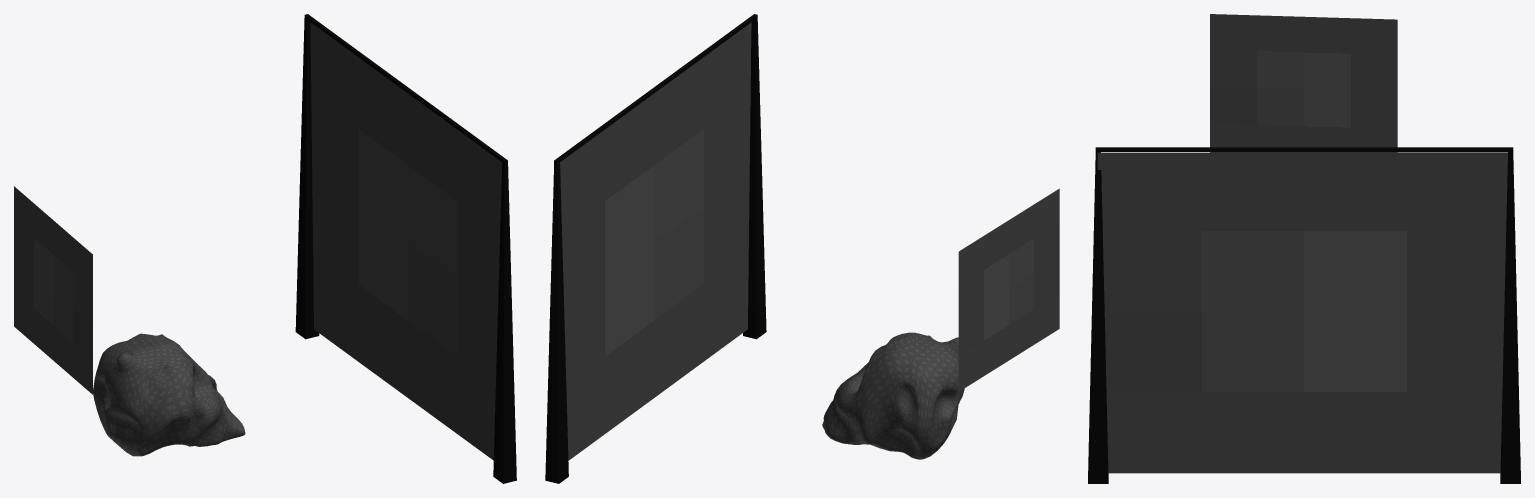
File: Mateo_amaral_9.dae
The picture shows the model from 3 angles, left to right: view 1: azimuth 30°, elevation 25°; view 2: azimuth 150°, elevation 25°; view 3: azimuth 270°, elevation 25°; orthographic projection. The views are drawn at different scales.
Parts seen in each view (by area): view 1: cdsca, strobo, signos, Box001; view 2: cdsca, signos, strobo, Box001; view 3: cdsca, signos, Box001.
Part boxes in pixels (x1,y1,x2,y2): cdsca: (310, 22, 501, 460); strobo: (93, 333, 245, 456); signos: (14, 186, 92, 394); Box001: (295, 14, 516, 483); cdsca: (560, 22, 751, 460); signos: (958, 188, 1059, 391); strobo: (822, 332, 964, 459); Box001: (545, 14, 766, 483); cdsca: (1097, 152, 1507, 473); signos: (1210, 14, 1397, 152); Box001: (1088, 147, 1520, 483).
Bounding box in the file's own units: 1.85 × 1.82 × 1.54.
4 materials, 3 textured.
